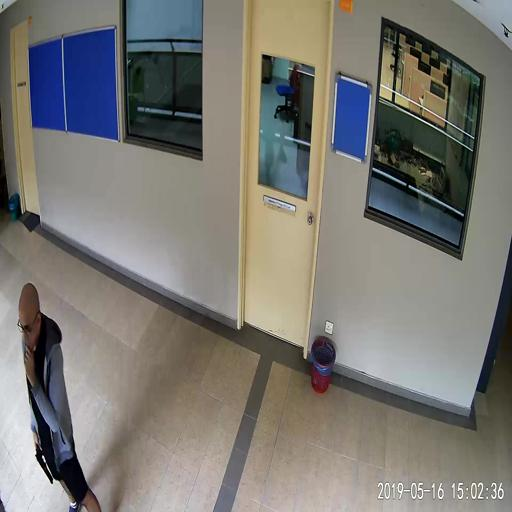pistol: (34, 447, 51, 481)
